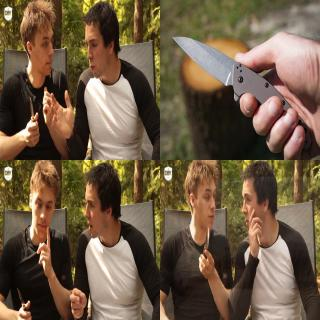knife: (168, 29, 274, 115), (198, 222, 214, 279), (13, 282, 31, 320), (24, 91, 40, 133)
